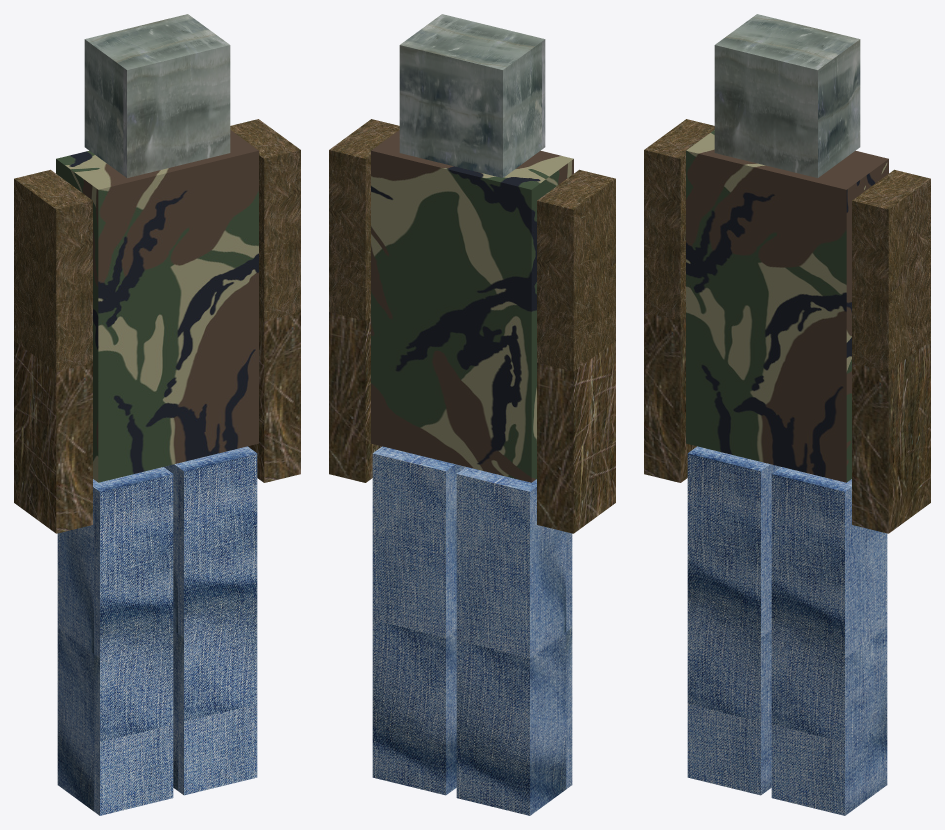
Rendered from CubeDude_multitextured_v4.fbx.
3 views of the same model, side by side, from view 1: azimuth 30°, elevation 25°; view 2: azimuth 150°, elevation 25°; view 3: azimuth 330°, elevation 25° (orthographic).
Parts seen in each view (by area): view 1: CubeDude; view 2: CubeDude; view 3: CubeDude.
Boxes of the visible parts, x1,y1,x2,y2 form: CubeDude: (14,14,300,815); CubeDude: (329,14,615,815); CubeDude: (644,14,930,815).
Size of what is drawn, in the model's own units: 66.65 by 192 by 20.
Materials: 4 (4 with a texture image).
